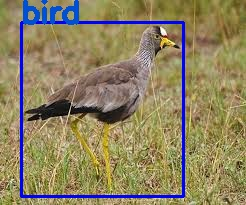bird: (20, 21, 183, 195)
